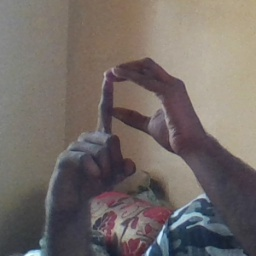P: (52, 55, 203, 193)
